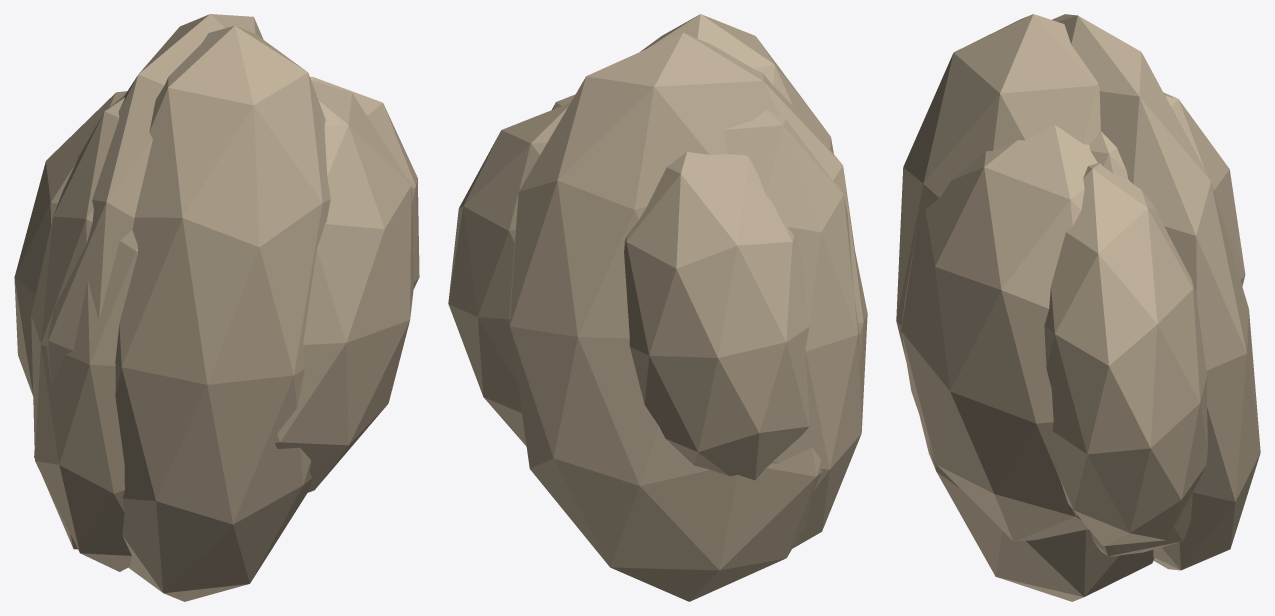
Rendered from cliff.glb.
3 views of the same model, side by side, from view 1: azimuth 30°, elevation 25°; view 2: azimuth 150°, elevation 25°; view 3: azimuth 270°, elevation 25° (orthographic). The views are drawn at different scales.
Parts seen in each view (by area): view 1: Limestone_face.004, Limestone_face.003, Limestone_face.006, Limestone_face.002, Limestone_face.005, Limestone_face.001; view 2: Limestone_face.002, Limestone_face.005, Limestone_face.006, Limestone_face.001, Limestone_face.004; view 3: Limestone_face.003, Limestone_face.001, Limestone_face.002, Limestone_face.004, Limestone_face.005, Limestone_face.
Boxes of the visible parts, bbox=[...] form: Limestone_face.004: bbox=[115, 26, 330, 601]; Limestone_face.003: bbox=[274, 80, 413, 492]; Limestone_face.006: bbox=[31, 95, 137, 571]; Limestone_face.002: bbox=[34, 14, 263, 549]; Limestone_face.005: bbox=[14, 91, 127, 396]; Limestone_face.001: bbox=[310, 76, 419, 288]; Limestone_face.002: bbox=[509, 32, 863, 601]; Limestone_face.005: bbox=[624, 152, 809, 480]; Limestone_face.006: bbox=[723, 109, 867, 548]; Limestone_face.001: bbox=[448, 103, 570, 446]; Limestone_face.004: bbox=[640, 14, 833, 153]; Limestone_face.003: bbox=[901, 125, 1097, 541]; Limestone_face.001: bbox=[1044, 163, 1207, 546]; Limestone_face.002: bbox=[1052, 14, 1260, 570]; Limestone_face.004: bbox=[896, 14, 1154, 601]; Limestone_face.005: bbox=[1163, 92, 1245, 286]; Limestone_face: bbox=[1089, 131, 1193, 556].
Size of the model in its own units: 6.08 by 8.47 by 4.63.
